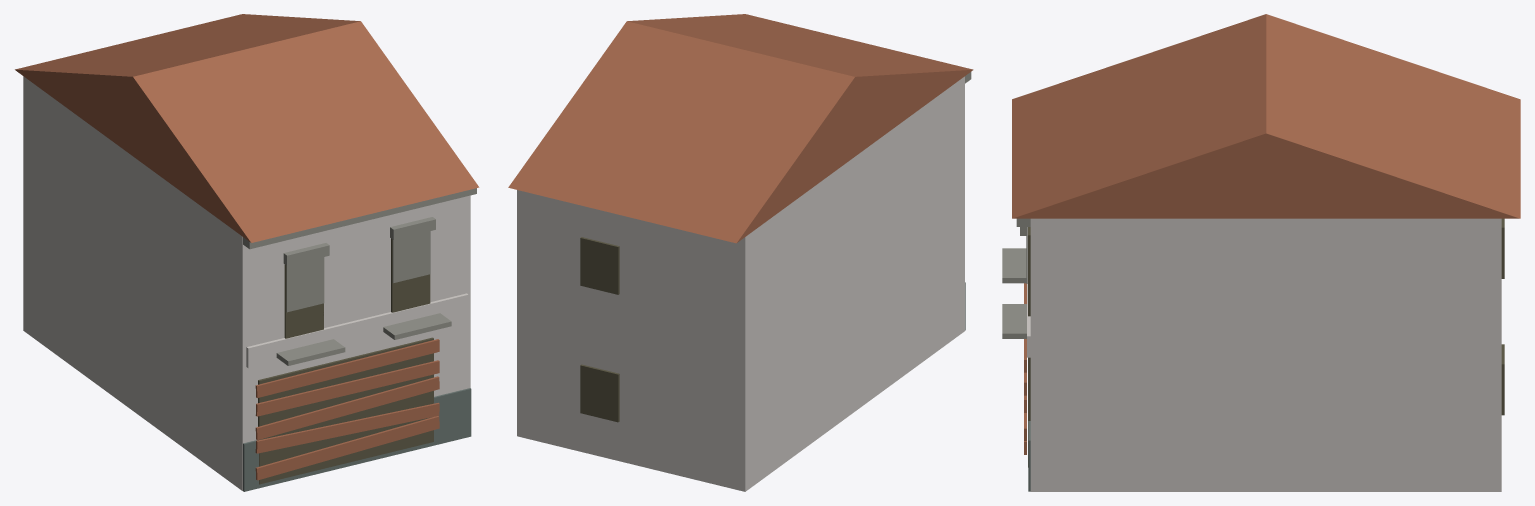
Rendered from SM_BajoComercial_v4_Tapiada_LOD1.fbx.
3 views of the same model, side by side, from view 1: azimuth 30°, elevation 25°; view 2: azimuth 150°, elevation 25°; view 3: azimuth 270°, elevation 25° (orthographic). The views are drawn at different scales.
Parts seen in each view (by area): view 1: SM_pueblo_valenciano_v9_LOD1; view 2: SM_pueblo_valenciano_v9_LOD1; view 3: SM_pueblo_valenciano_v9_LOD1.
Part boxes in pixels (x1=…): SM_pueblo_valenciano_v9_LOD1: x1=15, y1=14, x2=479, y2=491; SM_pueblo_valenciano_v9_LOD1: x1=508, y1=14, x2=973, y2=491; SM_pueblo_valenciano_v9_LOD1: x1=1002, y1=14, x2=1520, y2=491.
Size of the model in its own units: 6 by 8.4 by 11.
